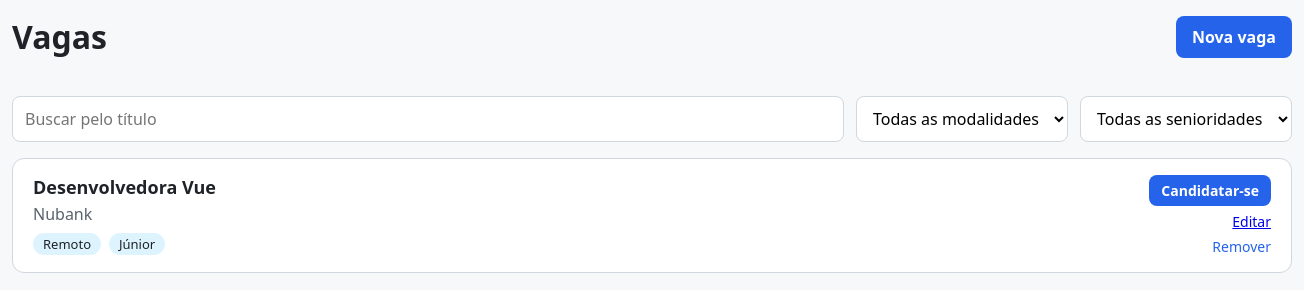
Test: VagasView › candidatar-se › cria a candidatura e troca o botão pelo status
Click the button with test id "candidatar" at [1210, 190], box [1149, 175, 1271, 206]
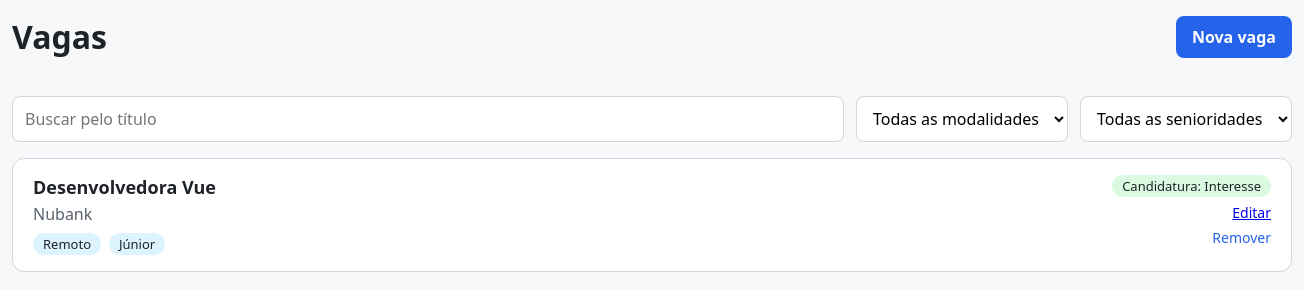
Result: the link with test id "candidatura" reads "Candidatura: Interesse" at [1112, 175, 1271, 197]
